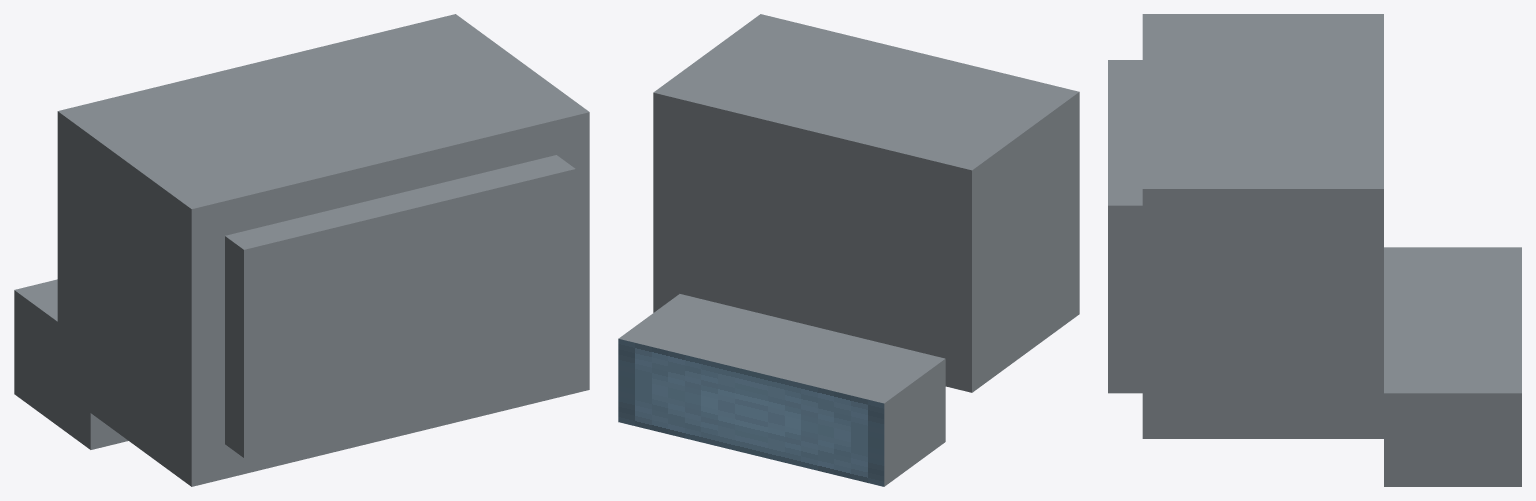
Rendered from mercury_wall_pack_item.obj.
The picture shows the model from 3 angles, left to right: view 1: azimuth 30°, elevation 25°; view 2: azimuth 150°, elevation 25°; view 3: azimuth 270°, elevation 25°; orthographic projection. The views are drawn at different scales.
Visible parts, largest first — view 1: mercury_wall_pack_item; view 2: mercury_wall_pack_item; view 3: mercury_wall_pack_item.
Part boxes in pixels (left/top/right/bottom): mercury_wall_pack_item: left=14, top=14, right=589, bottom=486; mercury_wall_pack_item: left=618, top=14, right=1079, bottom=486; mercury_wall_pack_item: left=1108, top=14, right=1521, bottom=486.
Bounding box in the file's own units: 0.75 × 0.625 × 0.75.
